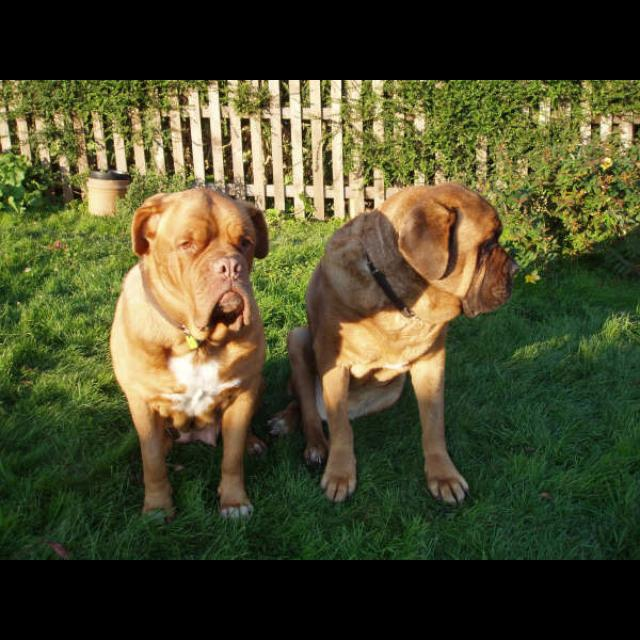dogue_de_bordeaux: (268, 181, 521, 507), (109, 186, 271, 526)
